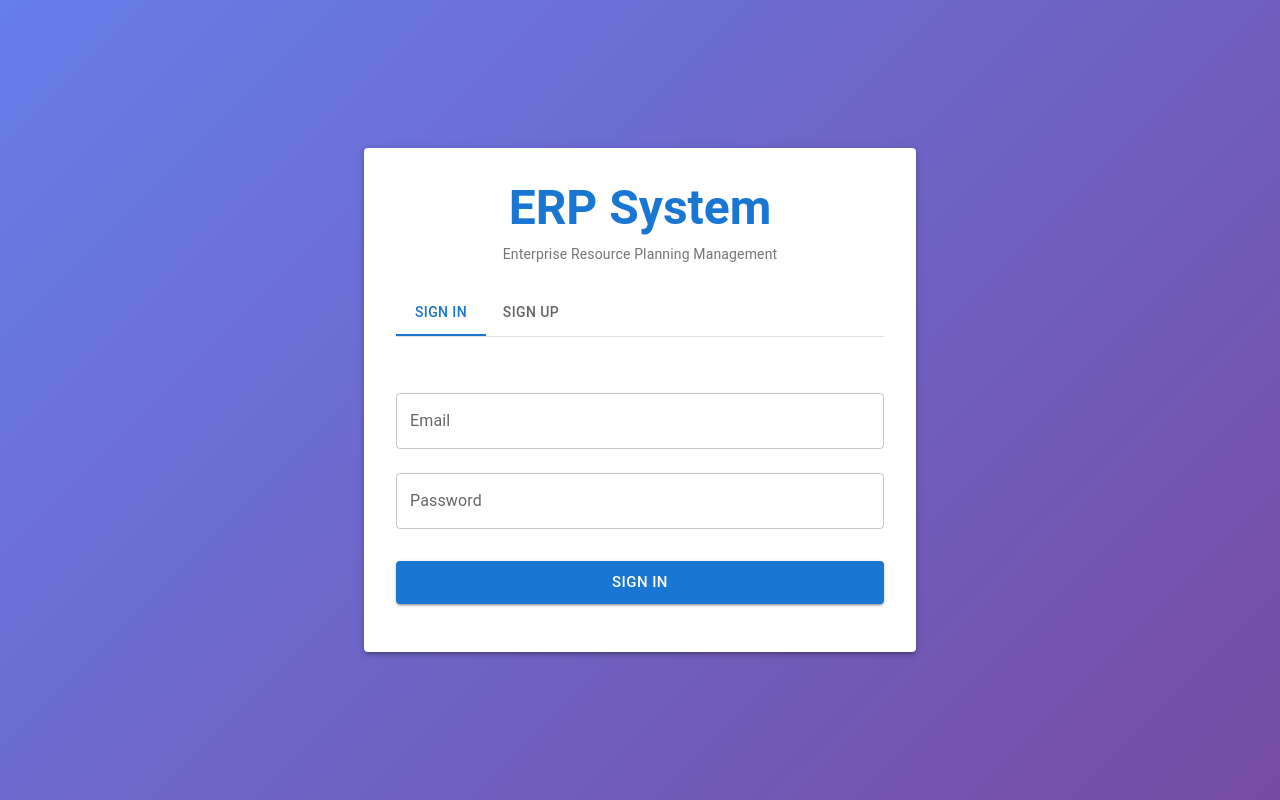
Test: Auth page › shows validation for empty sign up
This screenshot has width=1280, height=800.
Click the tab "Sign Up" at (531, 312), box 486,288 -> 576,336
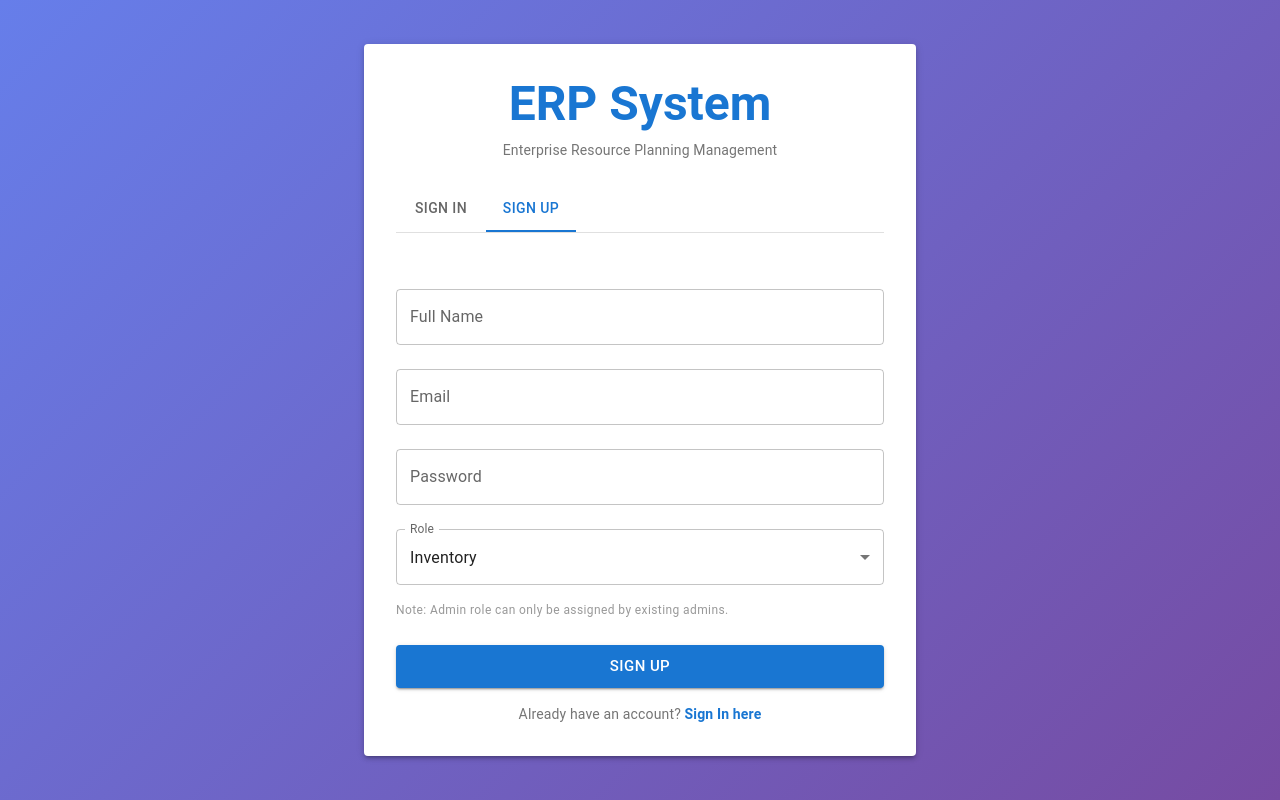
Click the button "Sign Up" at (640, 666), box 396,645 -> 884,688
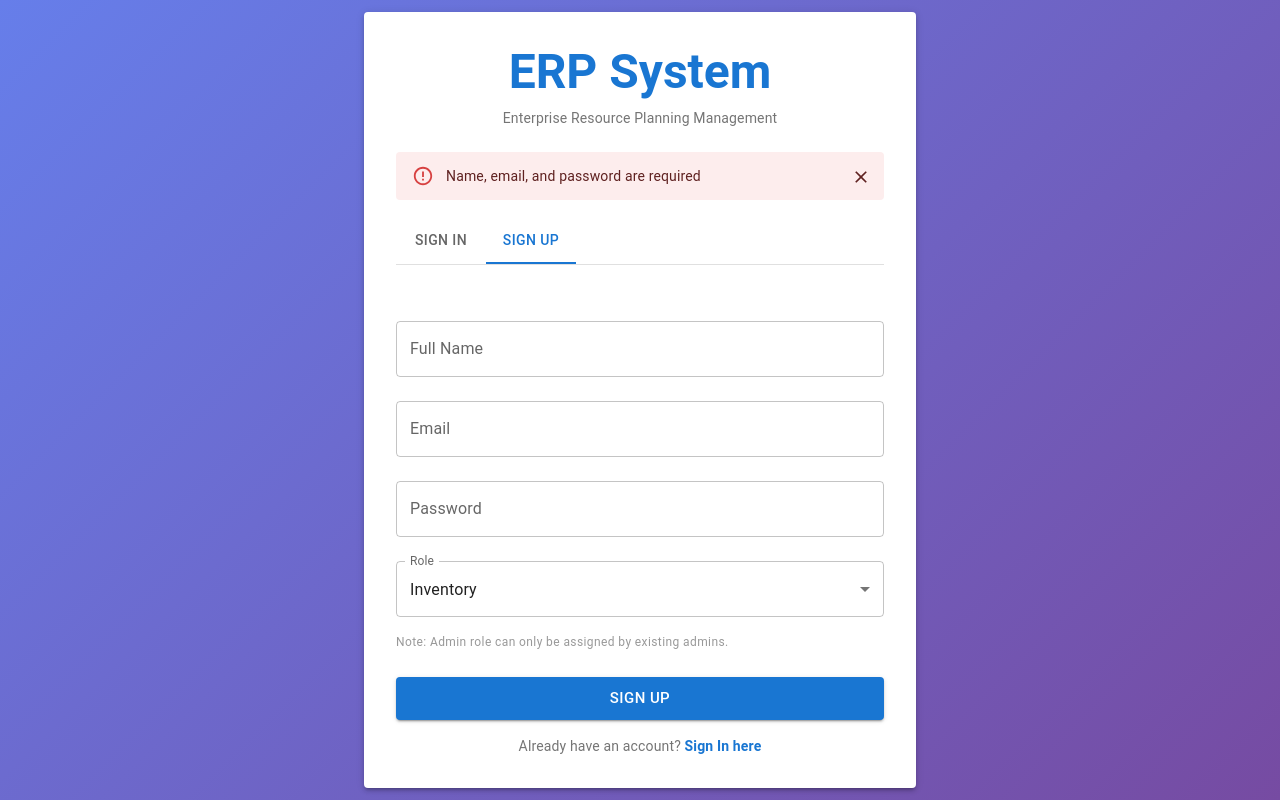
Expected: the text "Name, email, and password are required" is shown, 446,168 -> 701,184
